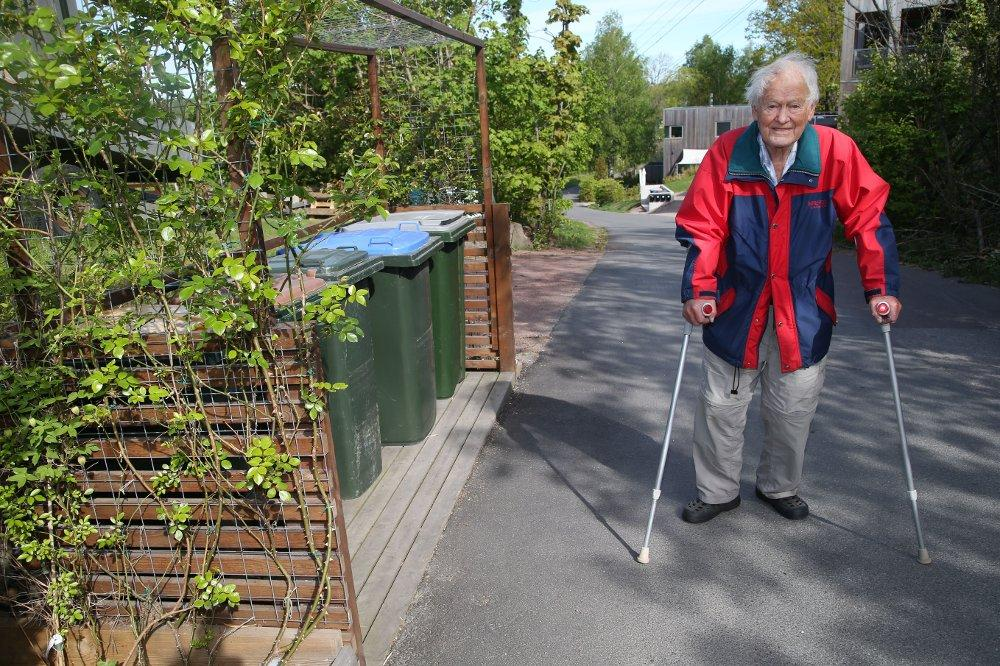crutches: (637, 50, 932, 565)
